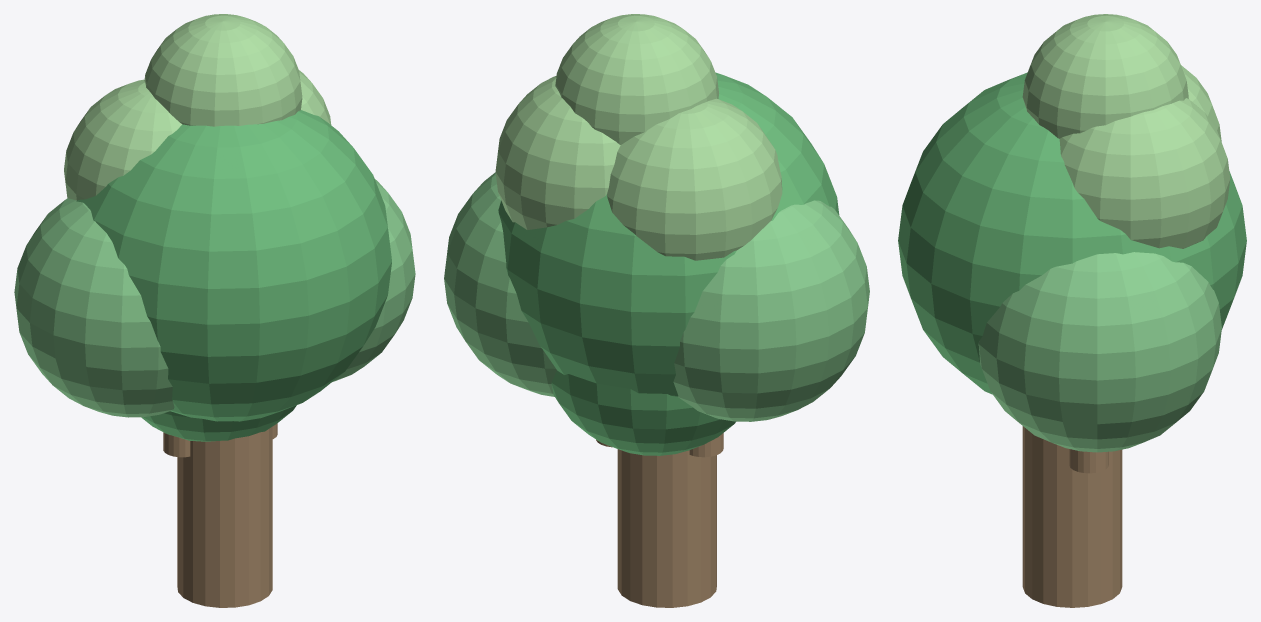
The model's file is tree.glb.
3 renders of one model, left to right at view 1: azimuth 30°, elevation 25°; view 2: azimuth 150°, elevation 25°; view 3: azimuth 270°, elevation 25°, orthographic. The views are drawn at different scales.
Parts seen in each view (by area): view 1: Fol1, Fol3, Trunk.002, Fol7, Fol5, Fol2, Fol6, Fol4, BranchB; view 2: Fol1, Fol3, Fol5, Trunk.002, Fol7, Fol4, Fol2, Fol6; view 3: Fol1, Fol2, Fol4, Trunk.002, Fol7, Fol5, BranchA.
Part boxes in pixels (x1,y1,x2,y2): Fol1: [76, 110, 391, 421]; Fol3: [14, 198, 174, 417]; Trunk.002: [177, 426, 272, 607]; Fol7: [144, 14, 302, 126]; Fol5: [64, 79, 181, 200]; Fol2: [332, 179, 415, 381]; Fol6: [141, 405, 296, 441]; Fol4: [299, 70, 331, 124]; BranchB: [163, 432, 190, 457]; Fol1: [498, 72, 839, 396]; Fol3: [673, 200, 869, 421]; Fol5: [607, 98, 782, 260]; Trunk.002: [617, 449, 716, 607]; Fol7: [555, 14, 718, 144]; Fol4: [495, 75, 620, 229]; Fol2: [444, 172, 556, 396]; Fol6: [551, 370, 735, 455]; Fol1: [898, 72, 1246, 394]; Fol2: [978, 252, 1221, 452]; Fol4: [1059, 98, 1230, 248]; Trunk.002: [1022, 426, 1122, 607]; Fol7: [1022, 14, 1188, 138]; Fol5: [1181, 65, 1221, 141]; BranchA: [1069, 449, 1108, 473].
Bounding box in the file's own units: 2.7 × 3.8 × 2.1.
